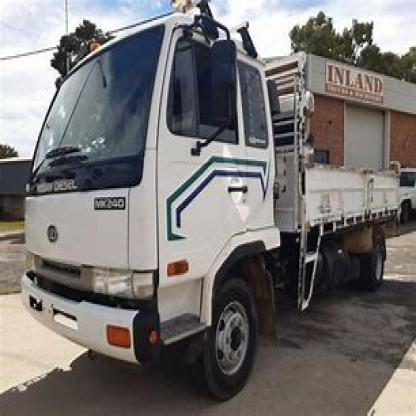dump_truck: (18, 14, 413, 402)
